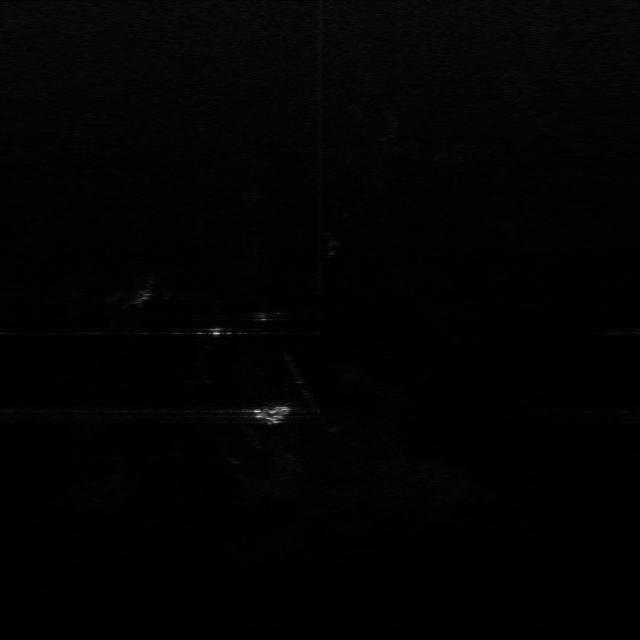rov: (249, 404, 293, 424)
